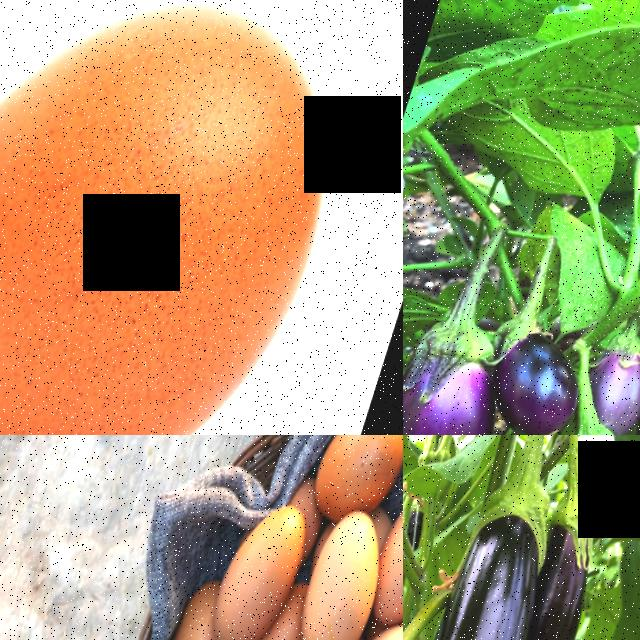egg_: (0, 0, 398, 435), (207, 499, 323, 640), (289, 512, 403, 640), (307, 435, 403, 529), (369, 483, 403, 640)
eggplant: (403, 475, 589, 640), (512, 491, 625, 640), (480, 308, 609, 435), (403, 310, 532, 435), (593, 327, 640, 435)
